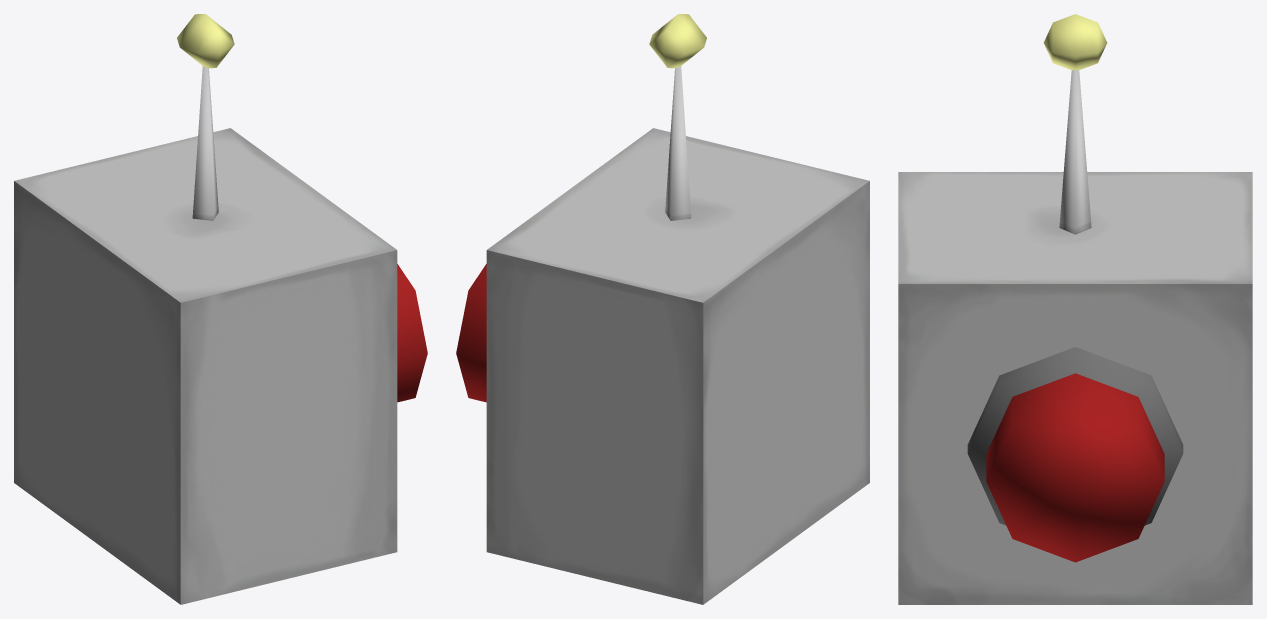
File: Beacon.fbx
3 views of the same model, side by side, from view 1: azimuth 30°, elevation 25°; view 2: azimuth 150°, elevation 25°; view 3: azimuth 270°, elevation 25° (orthographic). The views are drawn at different scales.
Parts seen in each view (by area): view 1: beacon; view 2: beacon; view 3: beacon.
Part boxes in pixels (box(x1,y1,x2,y2)): beacon: box(14, 14, 427, 604); beacon: box(456, 14, 869, 604); beacon: box(898, 14, 1252, 604).
Bounding box in the file's own units: 39.34 × 65.62 × 39.37.
